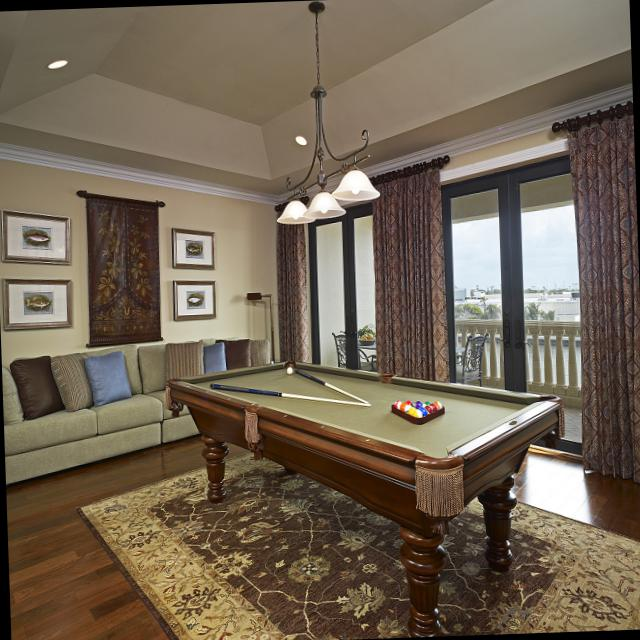bar stool: (22, 268, 613, 599)
ceiling beam: (95, 0, 633, 124), (0, 96, 602, 198)
floor -X: (3, 359, 640, 640)
lamp crop: (549, 33, 577, 45)
photo frame: (80, 8, 123, 60), (137, 23, 181, 72)
shelves crop: (335, 148, 477, 291), (243, 177, 308, 289)
stool: (85, 317, 144, 599), (51, 310, 105, 550), (23, 305, 75, 512)
stool crop: (353, 297, 514, 631), (120, 321, 281, 639), (444, 292, 582, 599), (522, 284, 638, 540)
text: (217, 51, 453, 155)
wall clock: (0, 8, 550, 163), (473, 118, 640, 408), (140, 144, 345, 295), (0, 168, 140, 364)
